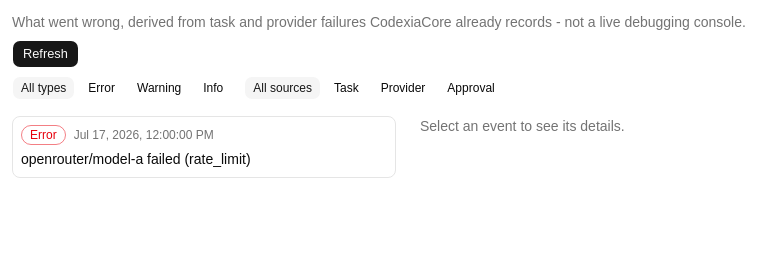
Test: Log › clicking an event shows its details, including metadata
This screenshot has width=762, height=269.
Click the text "openrouter/model-a failed (rate_limit)": {"x": 136, "y": 159} [21, 149, 251, 169]
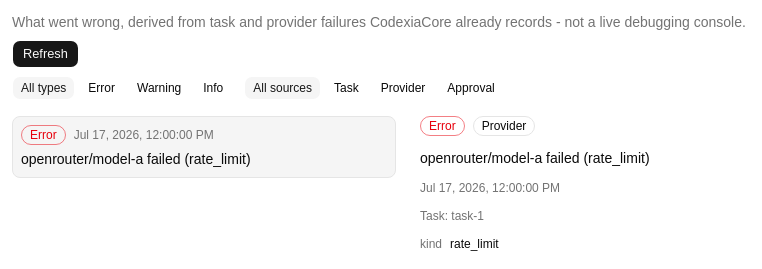
Check: the text "Task: task-1" is shown, box [420, 209, 484, 223]
Check: the text "kind" is shown, box [420, 236, 442, 252]
Check: the text "rate_limit" is shown, box [450, 236, 499, 252]
